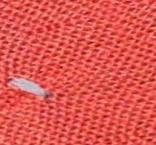hole: (3, 74, 54, 101)
